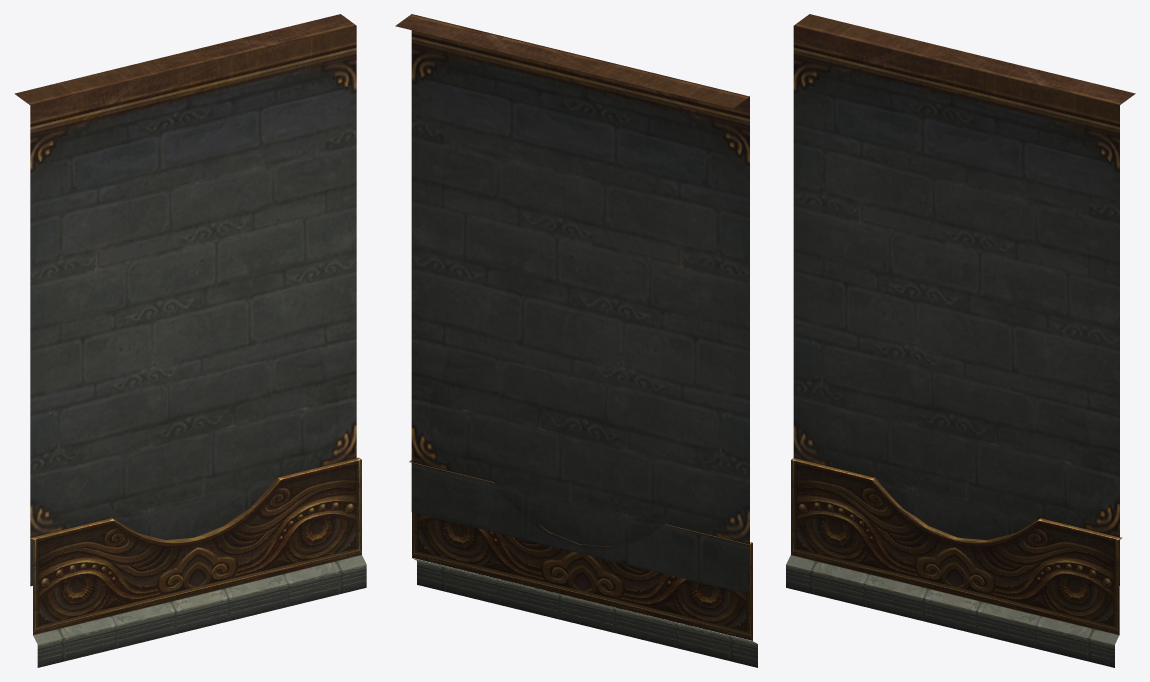
The model's file is fb_jianhugong_qiang.FBX.
3 renders of one model, left to right at view 1: azimuth 30°, elevation 25°; view 2: azimuth 150°, elevation 25°; view 3: azimuth 330°, elevation 25°, orthographic. The views are drawn at different scales.
Parts seen in each view (by area): view 1: fb_jianhugong_qiang; view 2: fb_jianhugong_qiang; view 3: fb_jianhugong_qiang.
Part boxes in pixels (x1,y1,x2,y2): fb_jianhugong_qiang: (14,14,366,667); fb_jianhugong_qiang: (395,14,757,667); fb_jianhugong_qiang: (786,14,1135,667).
Size of the model in its own units: 303 by 489 by 37.58.
